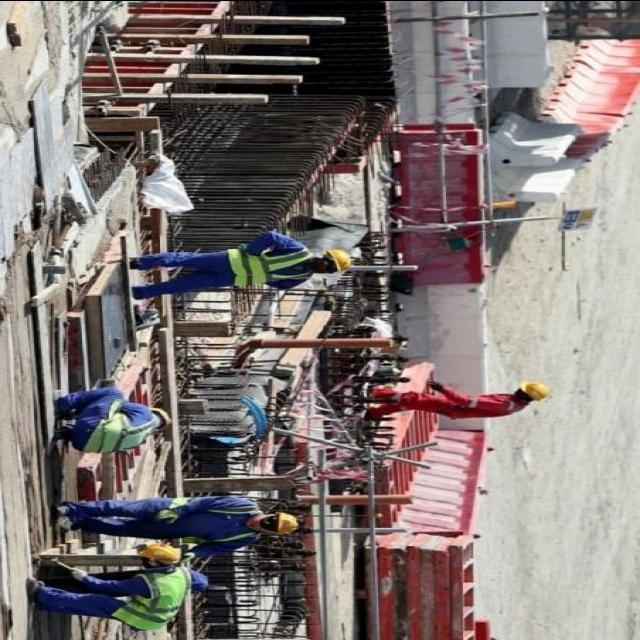helmet: (327, 241, 358, 280), (138, 540, 185, 564), (518, 379, 550, 404), (278, 512, 301, 538)
jacket: (116, 565, 196, 629), (227, 236, 310, 295), (85, 404, 156, 453)
